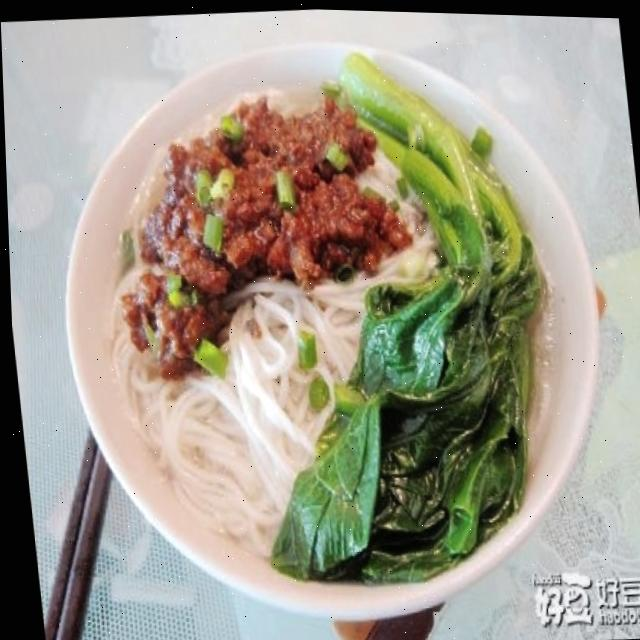面条主食: (39, 21, 628, 637)
